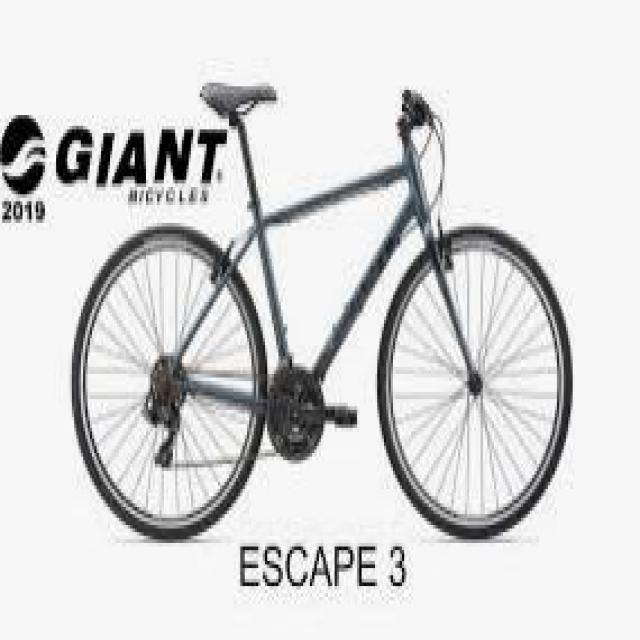bicycle: (82, 84, 572, 548)
